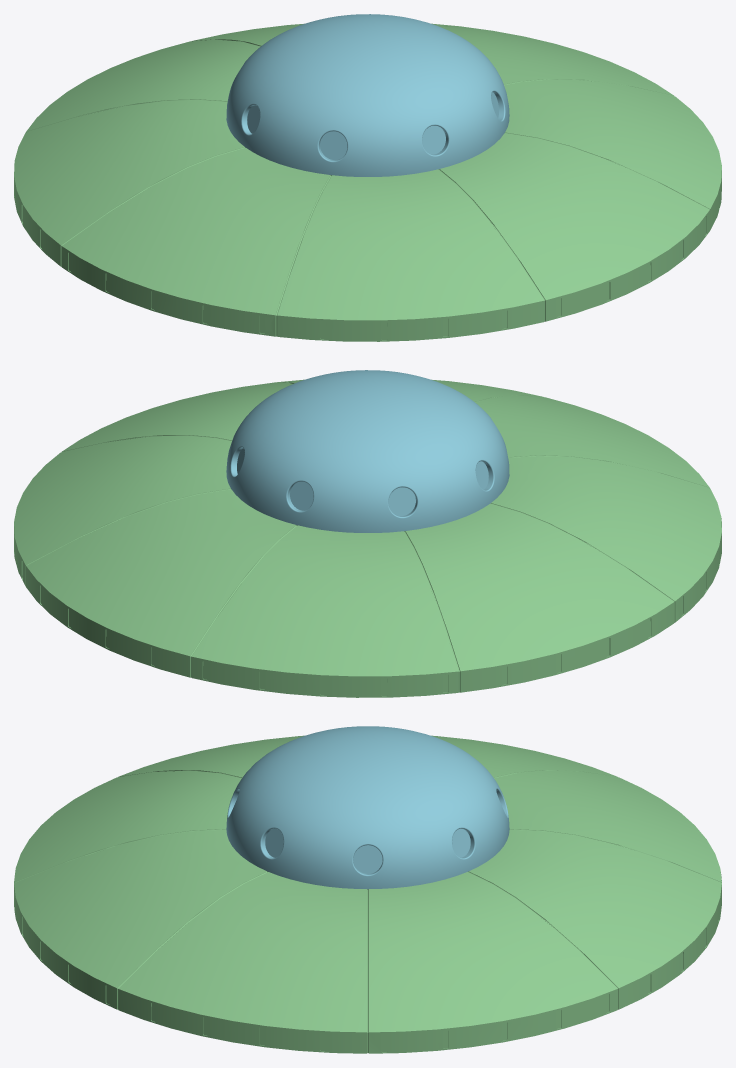
The model's file is ufo_joined_fixedPivot_3.0.fbx.
3 views of the same model, one above another, from view 1: azimuth 30°, elevation 25°; view 2: azimuth 150°, elevation 25°; view 3: azimuth 270°, elevation 25° (orthographic).
Visible parts, largest first — view 1: Body1; view 2: Body1; view 3: Body1.
Part boxes in pixels (x1,y1,x2,y2): Body1: [14, 14, 721, 341]; Body1: [14, 370, 721, 697]; Body1: [14, 726, 721, 1053].
Size of the model in its own units: 600 by 200 by 600.
